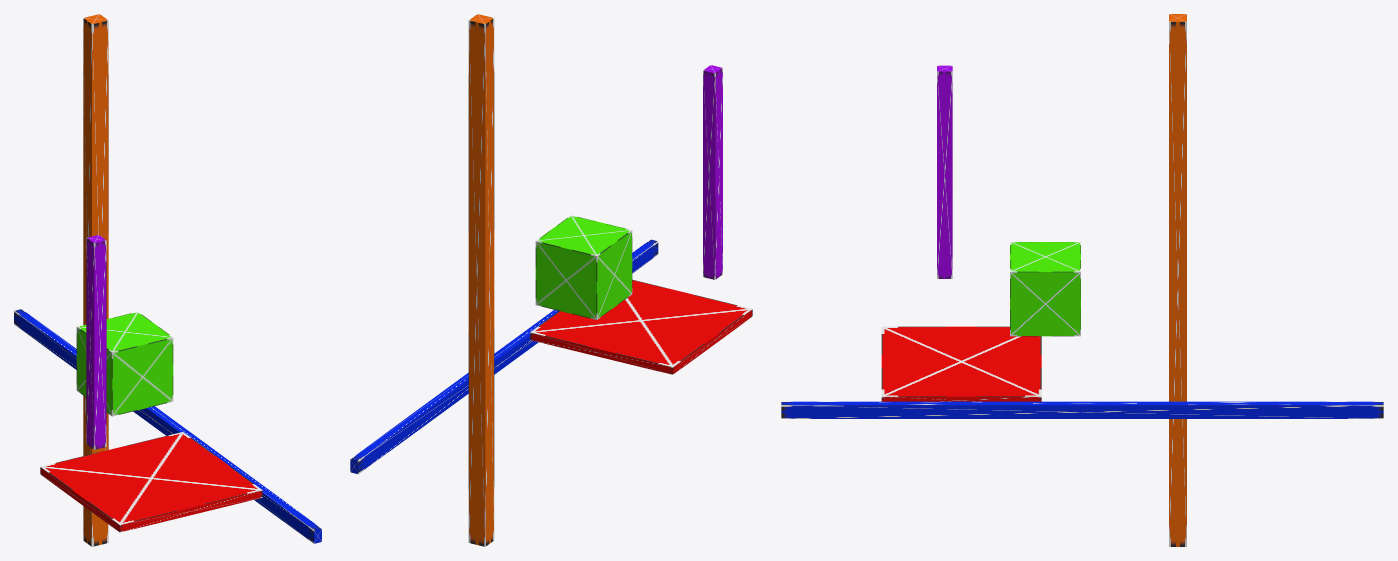
File: SM_Deccer_Cubes_Textured.obj
The picture shows the model from 3 angles, left to right: view 1: azimuth 30°, elevation 25°; view 2: azimuth 150°, elevation 25°; view 3: azimuth 270°, elevation 25°; orthographic projection.
Visible parts, largest first — view 1: Cube.004, Cube.002, Cube, Cube.003, Cube.001; view 2: Cube.002, Cube.004, Cube, Cube.003, Cube.001; view 3: Cube.004, Cube.001, Cube.002, Cube, Cube.003.
Boxes of the visible parts, box(x1,y1,x2,y2) form: Cube.004: box(40, 432, 262, 532); Cube.002: box(83, 14, 108, 546); Cube: box(76, 311, 173, 416); Cube.003: box(86, 235, 106, 449); Cube.001: box(14, 309, 321, 543); Cube.002: box(468, 14, 494, 546); Cube.004: box(530, 279, 752, 374); Cube: box(535, 215, 632, 319); Cube.003: box(703, 65, 722, 279); Cube.001: box(350, 239, 658, 474); Cube.004: box(881, 326, 1041, 401); Cube.001: box(781, 401, 1383, 418); Cube.002: box(1169, 14, 1186, 546); Cube: box(1010, 242, 1080, 336); Cube.003: box(937, 65, 952, 278).
Size of the model in its own units: 4.97 by 16.3 by 16.96.
Materials: 5 (5 with a texture image).
